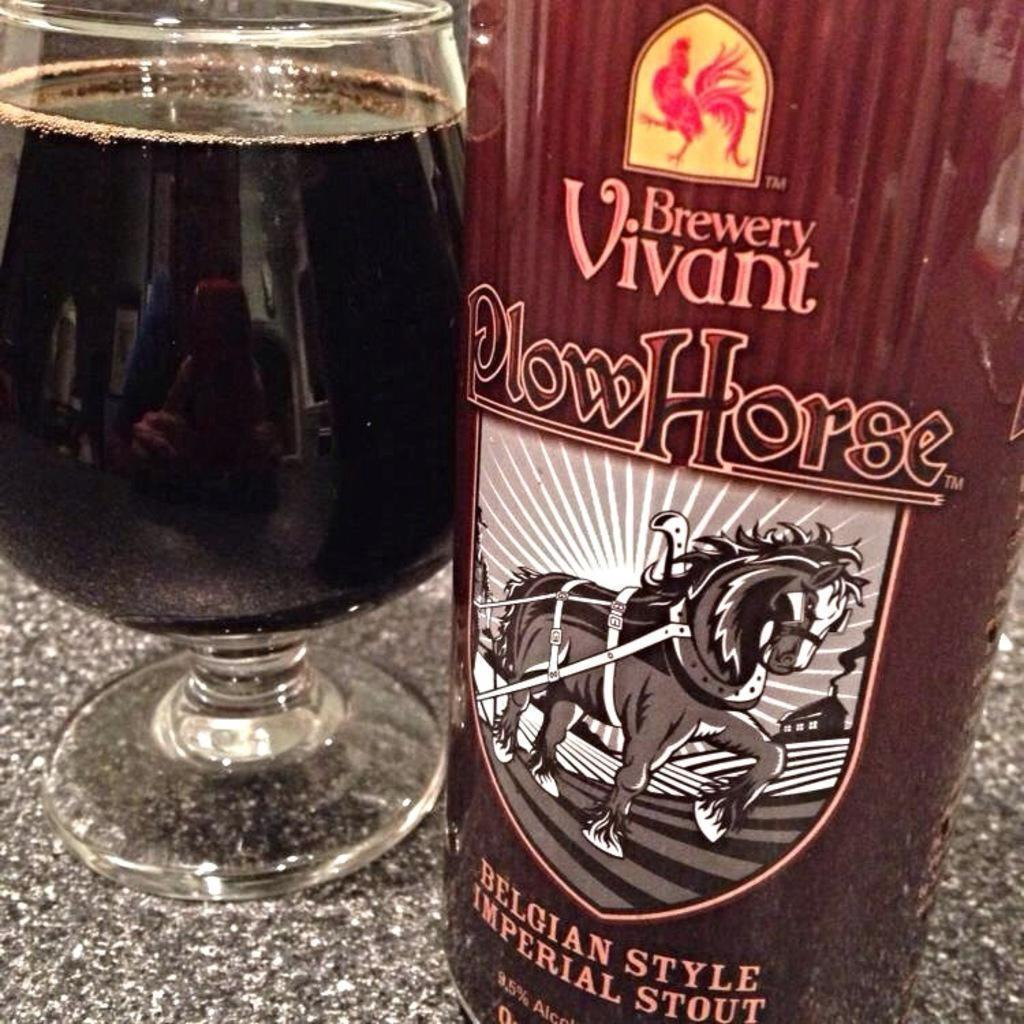glass-wine: (0, 0, 478, 897)
